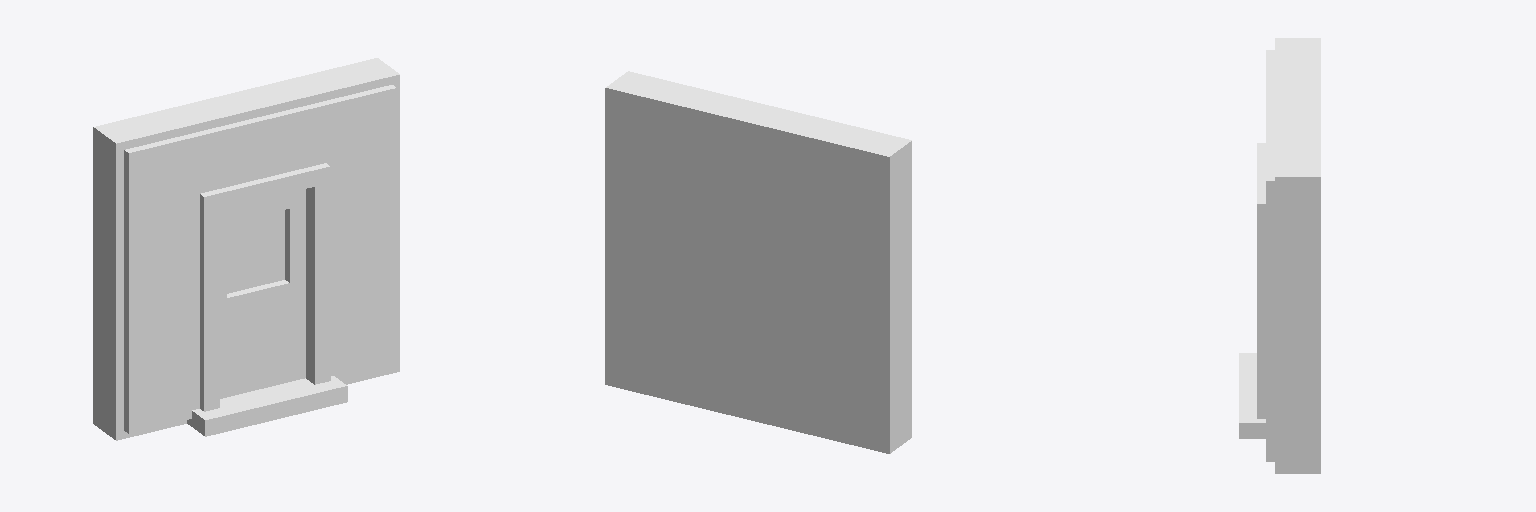
Rendered from fenetre-10.obj.
3 views of the same model, side by side, from view 1: azimuth 30°, elevation 25°; view 2: azimuth 150°, elevation 25°; view 3: azimuth 270°, elevation 25° (orthographic).
Visible parts, largest first — view 1: object 1; view 2: object 1; view 3: object 1.
Boxes of the visible parts, x1,y1,x2,y2 form: object 1: [93, 58, 399, 440]; object 1: [605, 71, 911, 453]; object 1: [1239, 38, 1320, 473].
Bounding box in the file's own units: 3.6 × 3.6 × 0.9.